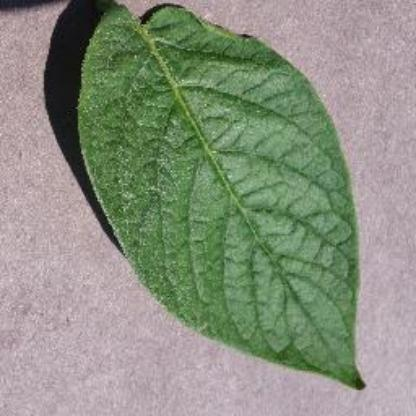Healthy-plant: (61, 2, 391, 396)
